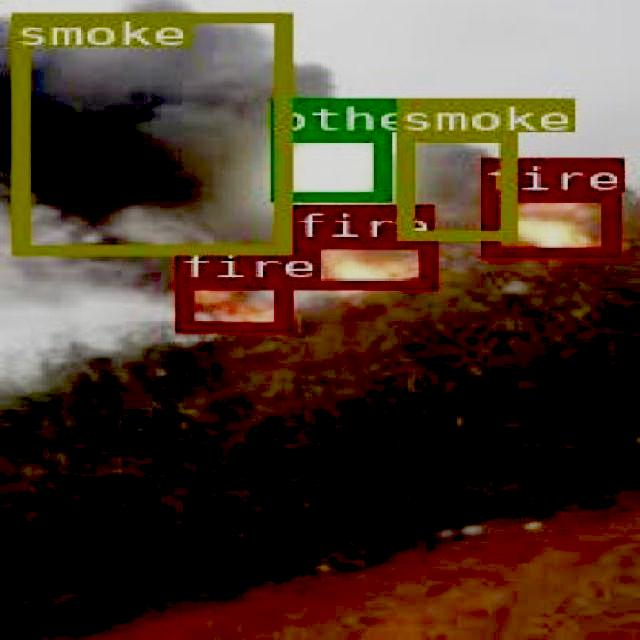fire: (480, 190, 614, 256), (286, 238, 432, 288), (174, 278, 288, 329)
smoke: (9, 12, 286, 254), (394, 132, 514, 238)
